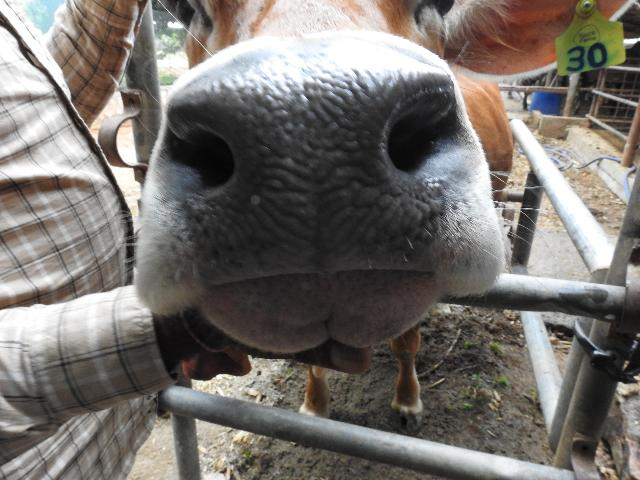Muzzle: (208, 75, 428, 250)
